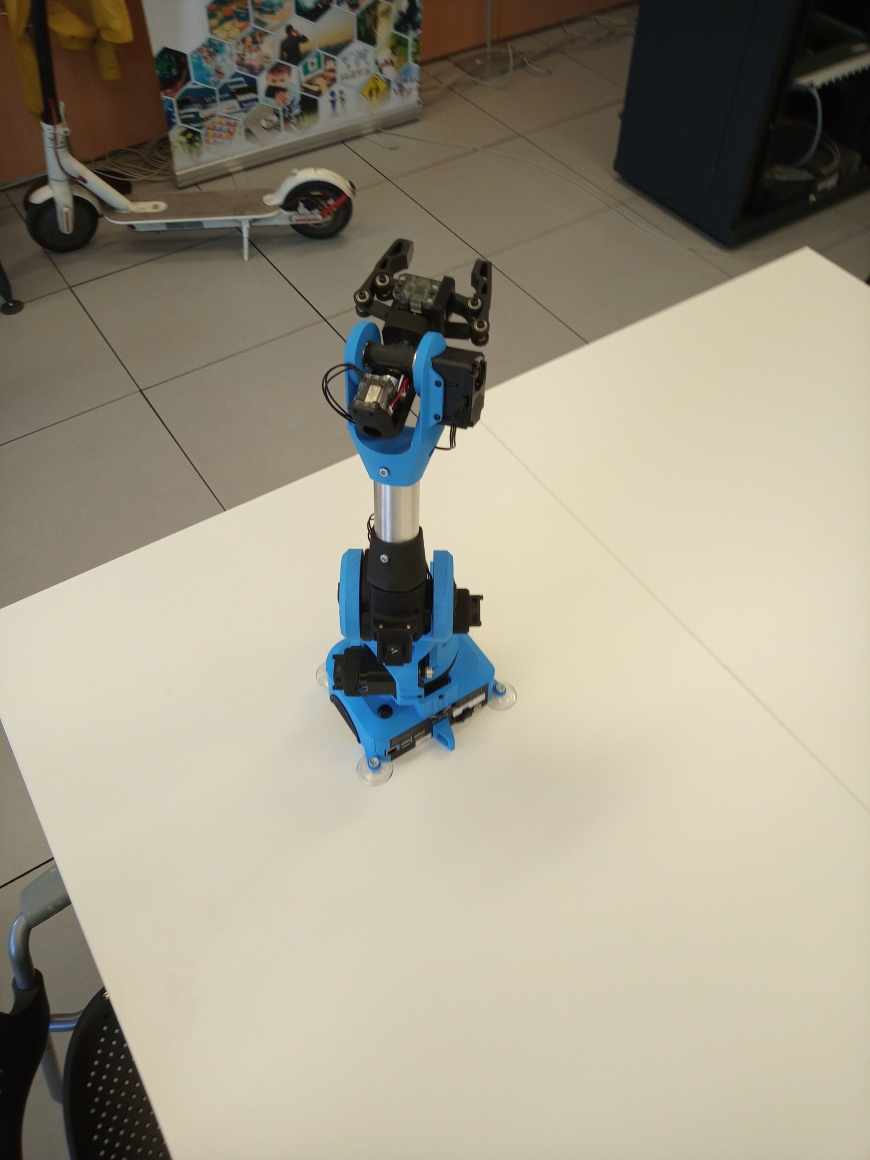robot: (316, 239, 525, 791)
